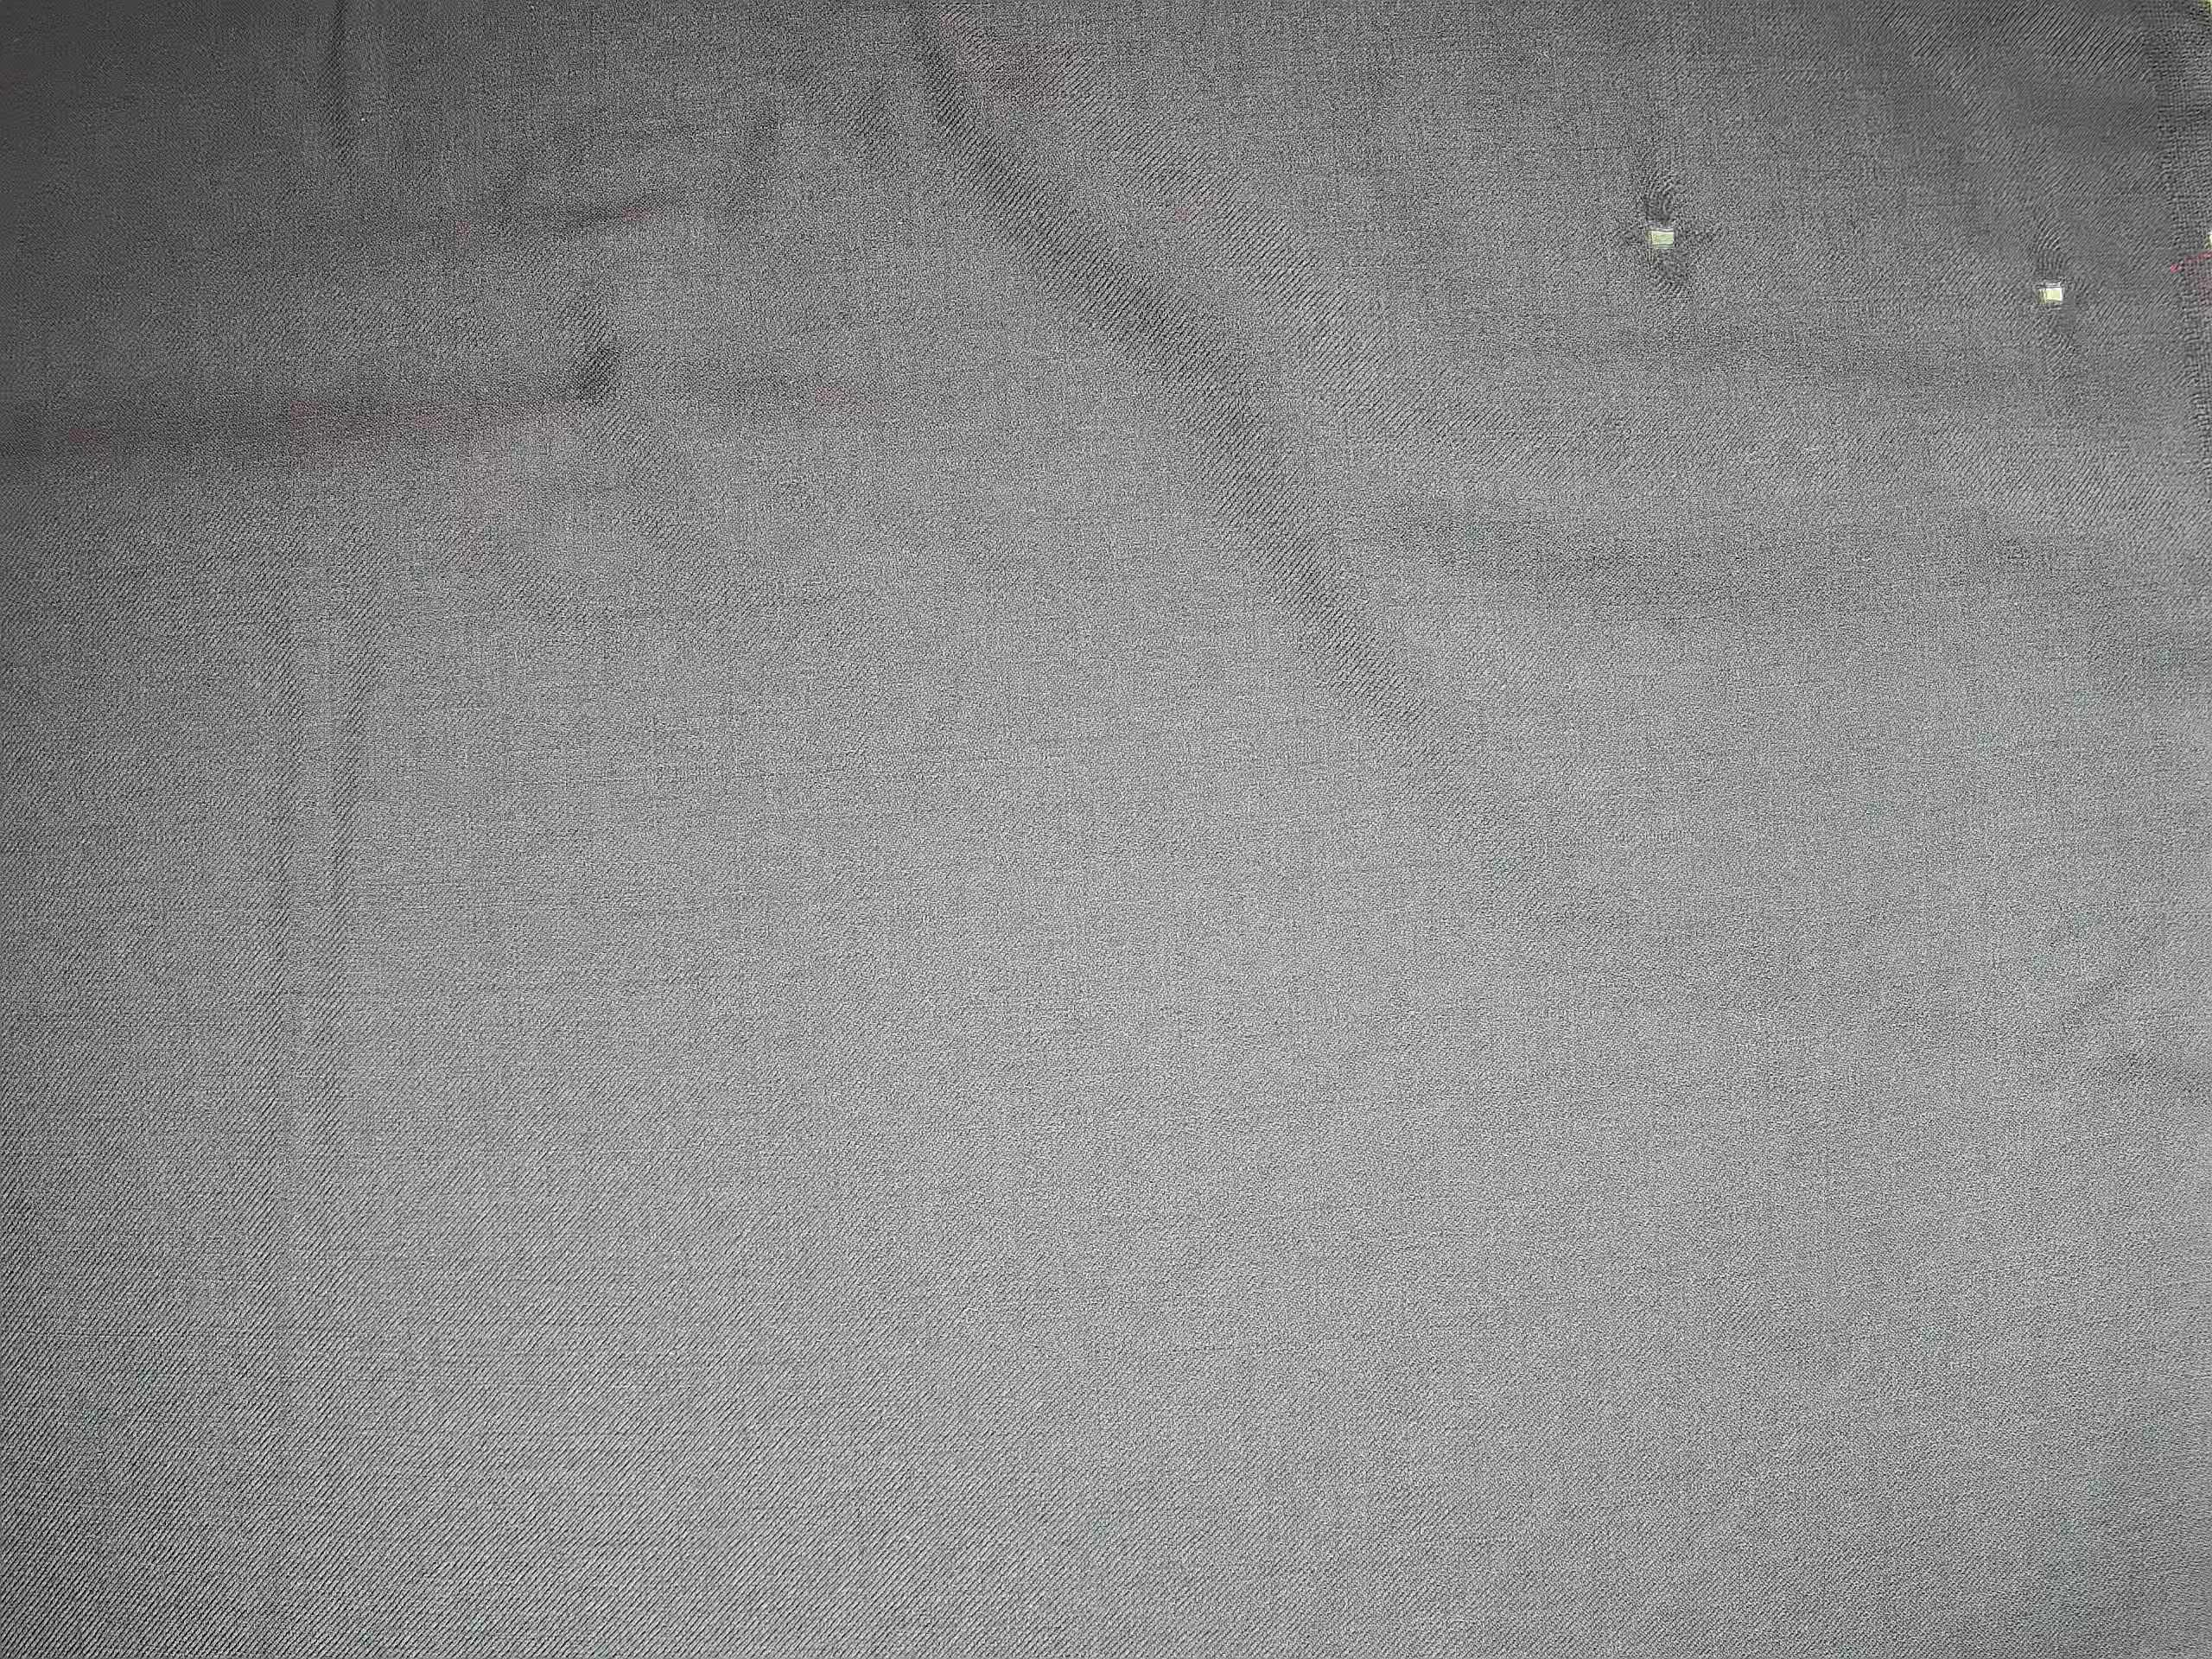rubbing-hole: (1615, 164, 1728, 307), (2012, 242, 2092, 340)
